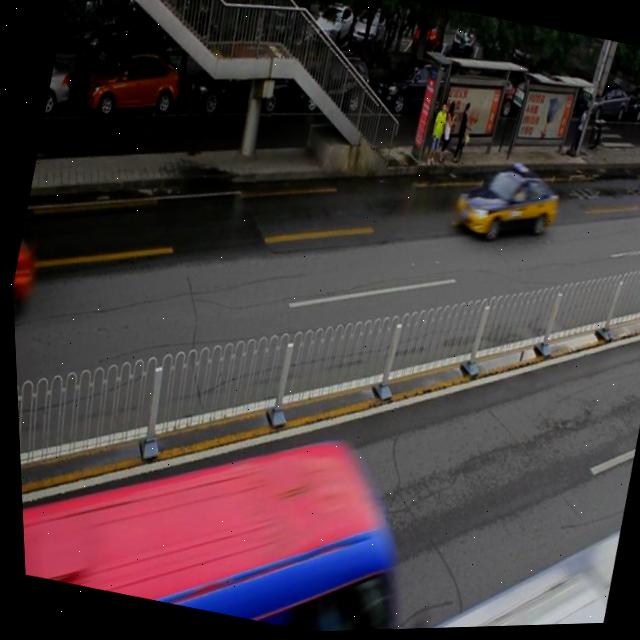car: (445, 154, 563, 255), (78, 40, 183, 130), (179, 44, 290, 129), (368, 47, 460, 129), (288, 48, 372, 123), (40, 53, 75, 122)
van: (13, 363, 424, 640), (342, 484, 617, 632)
